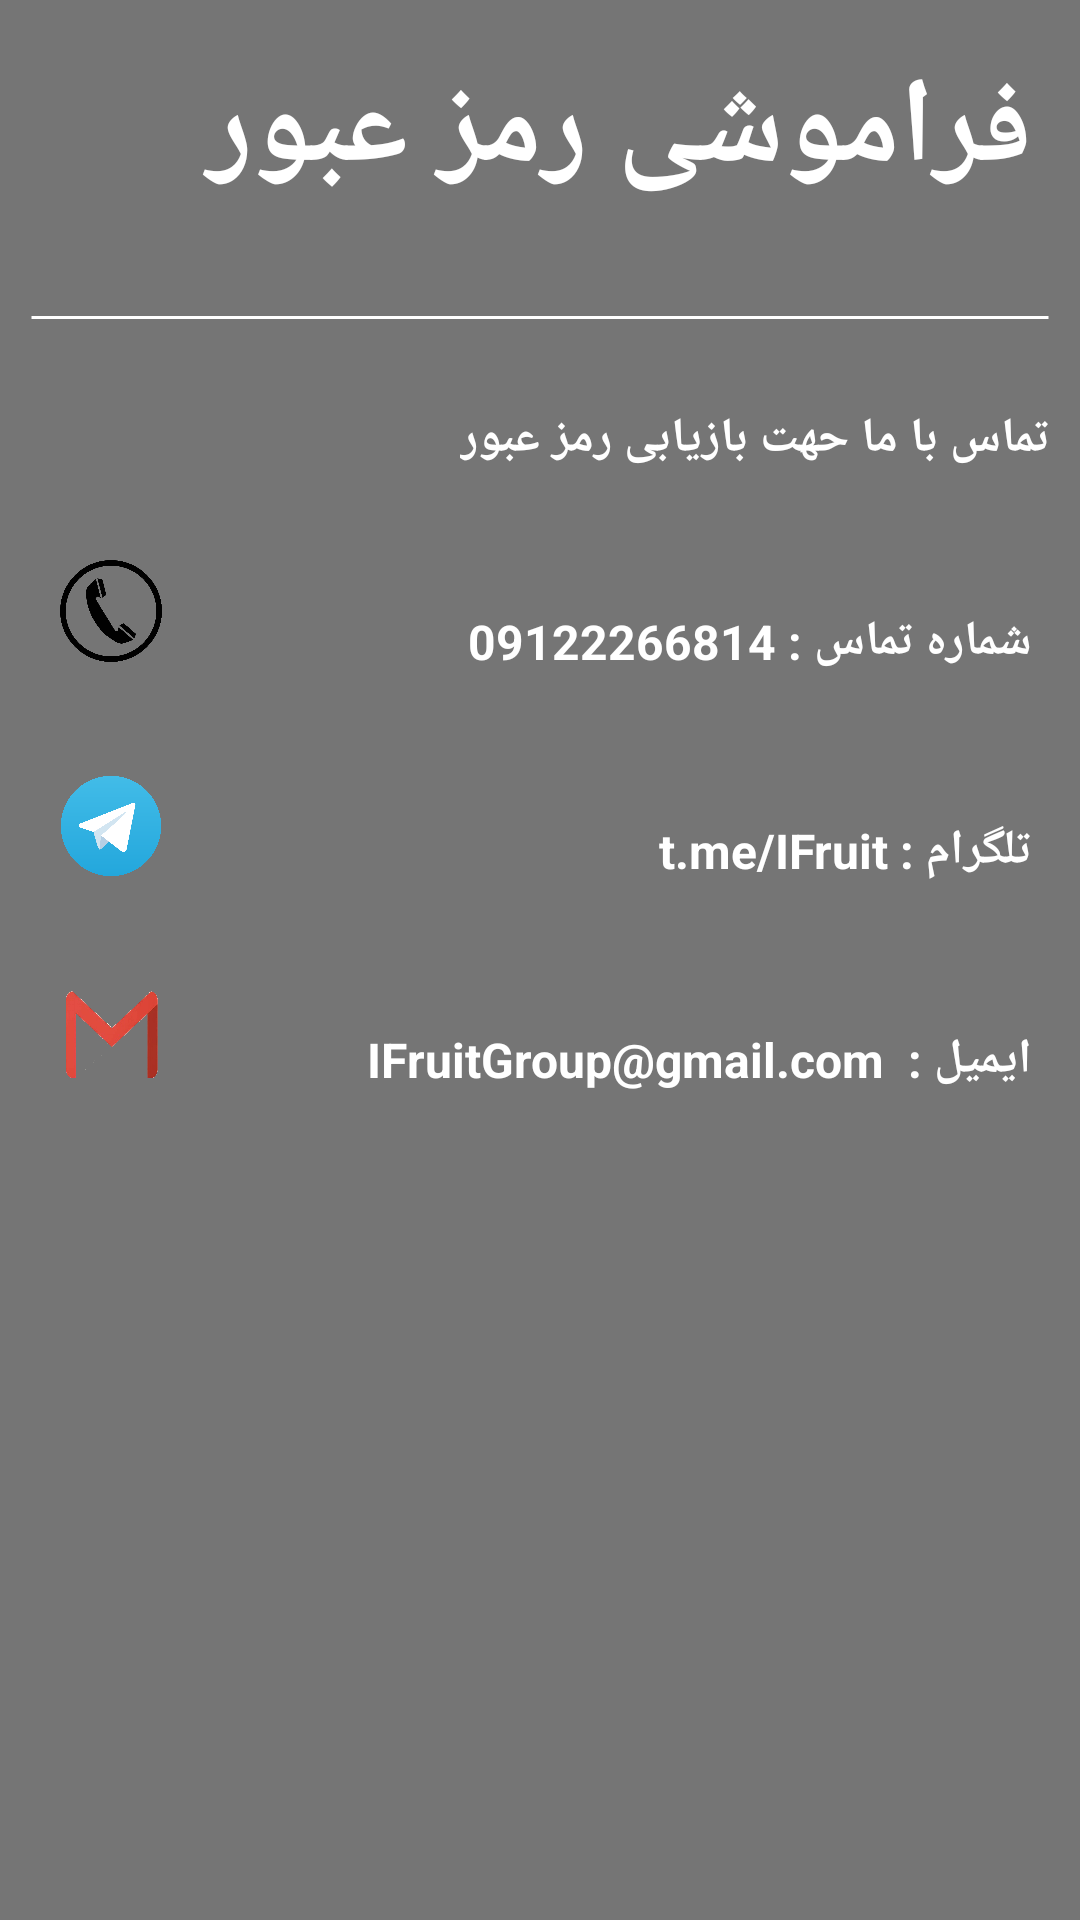

Icon click points for this 1080 x 1920 phone screenshot, format (x,y):
phone: (111,611)
